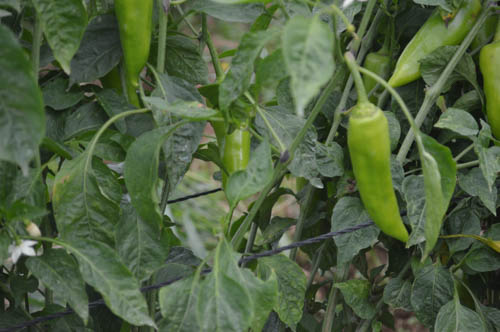ChiliPepper: (348, 112, 406, 243), (391, 1, 476, 87), (211, 121, 249, 207), (112, 1, 150, 84), (479, 43, 496, 137), (361, 52, 386, 107)
